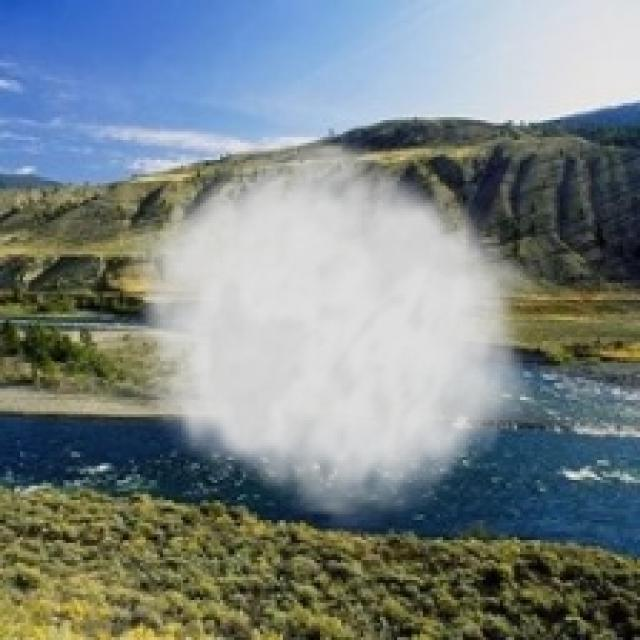Smoke: (115, 125, 540, 538)
